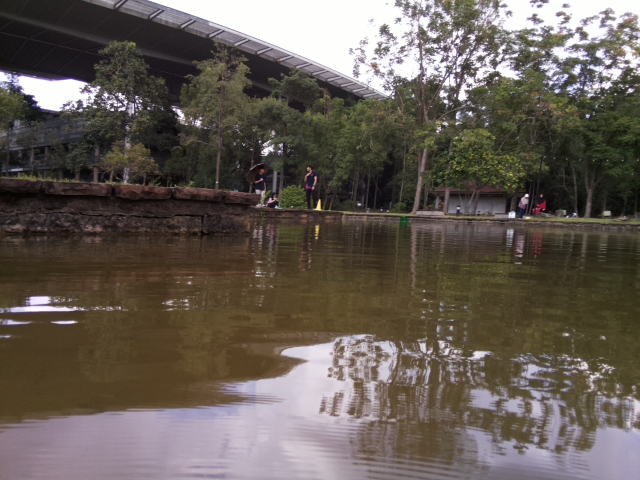checkpoint: (313, 198, 324, 212)
obstacle: (399, 215, 410, 224)
